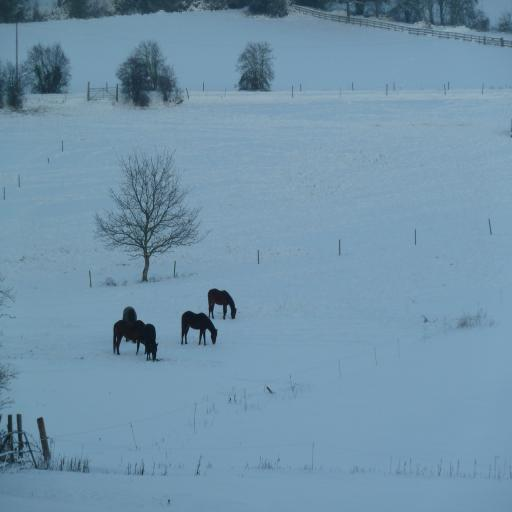Horse: (180, 311, 216, 346), (114, 319, 146, 353), (206, 290, 236, 320), (143, 324, 158, 358), (122, 307, 136, 339)
